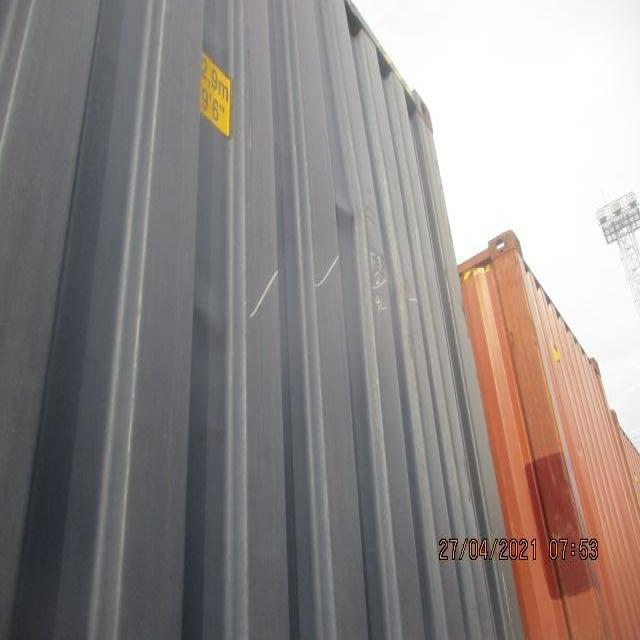dent: (305, 170, 410, 305)
